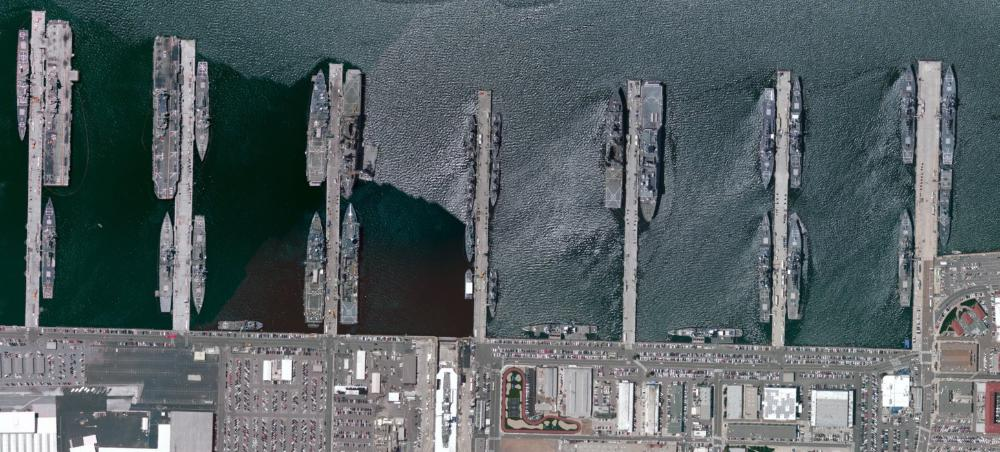amphiby: (639, 77, 665, 224), (342, 65, 365, 199), (604, 85, 628, 211), (305, 66, 329, 189), (303, 211, 327, 332)
destroyer: (758, 209, 776, 327), (16, 28, 31, 143)
fregate: (190, 212, 210, 318), (157, 211, 175, 317), (41, 197, 58, 303), (196, 58, 213, 163), (762, 86, 776, 191)
pha: (45, 17, 78, 194), (152, 30, 183, 202)
supply: (339, 202, 363, 329)
